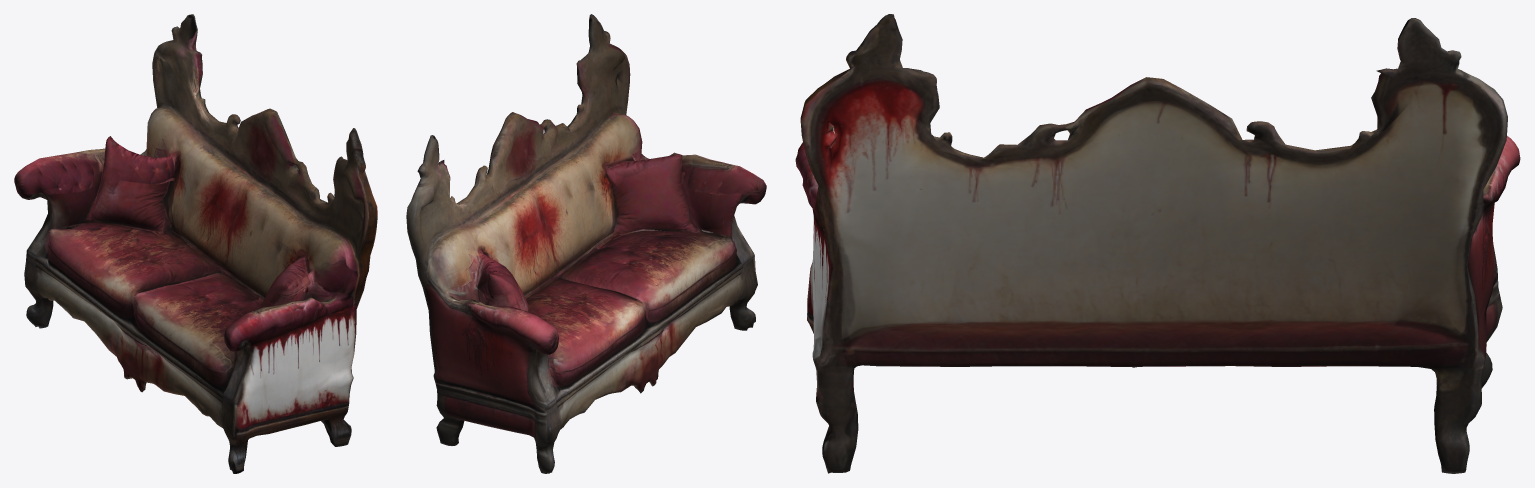
The model's file is creepy_old_balkan_so_0124164452_texture.fbx.
The picture shows the model from 3 angles, left to right: view 1: azimuth 30°, elevation 25°; view 2: azimuth 150°, elevation 25°; view 3: azimuth 270°, elevation 25°; orthographic projection. The views are drawn at different scales.
Parts seen in each view (by area): view 1: Mesh1_Mesh1.038; view 2: Mesh1_Mesh1.038; view 3: Mesh1_Mesh1.038.
Boxes of the visible parts, x1,y1,x2,y2 form: Mesh1_Mesh1.038: (14,14,377,473); Mesh1_Mesh1.038: (406,14,766,473); Mesh1_Mesh1.038: (795,14,1520,473).
Bounding box in the file's own units: 542 × 1000 × 1367.
Materials: 1 (1 with a texture image).
